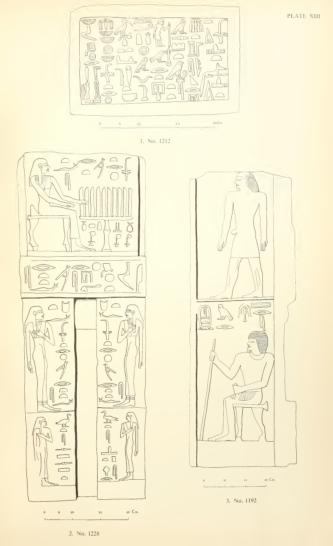circle: (197, 304, 214, 333)
